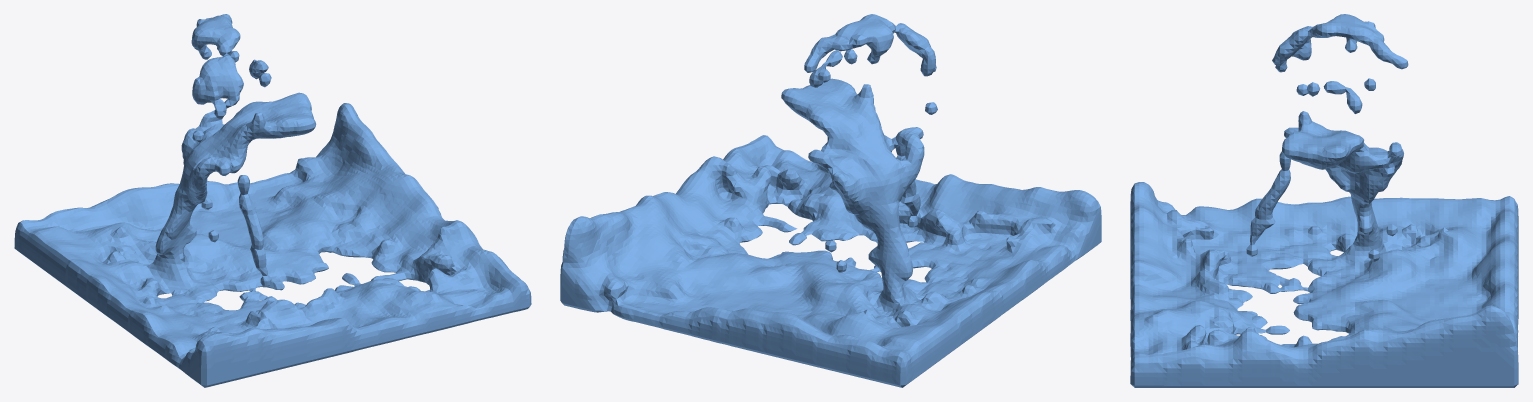
The model's file is water_0096.glb.
3 views of the same model, side by side, from view 1: azimuth 30°, elevation 25°; view 2: azimuth 150°, elevation 25°; view 3: azimuth 270°, elevation 25° (orthographic). The views are drawn at different scales.
Parts seen in each view (by area): view 1: Water_0096; view 2: Water_0096; view 3: Water_0096.
Boxes of the visible parts, x1,y1,x2,y2 form: Water_0096: [14, 14, 531, 387]; Water_0096: [560, 14, 1101, 387]; Water_0096: [1130, 14, 1518, 387].
Bounding box in the file's own units: 4.83 × 3.62 × 4.83.
